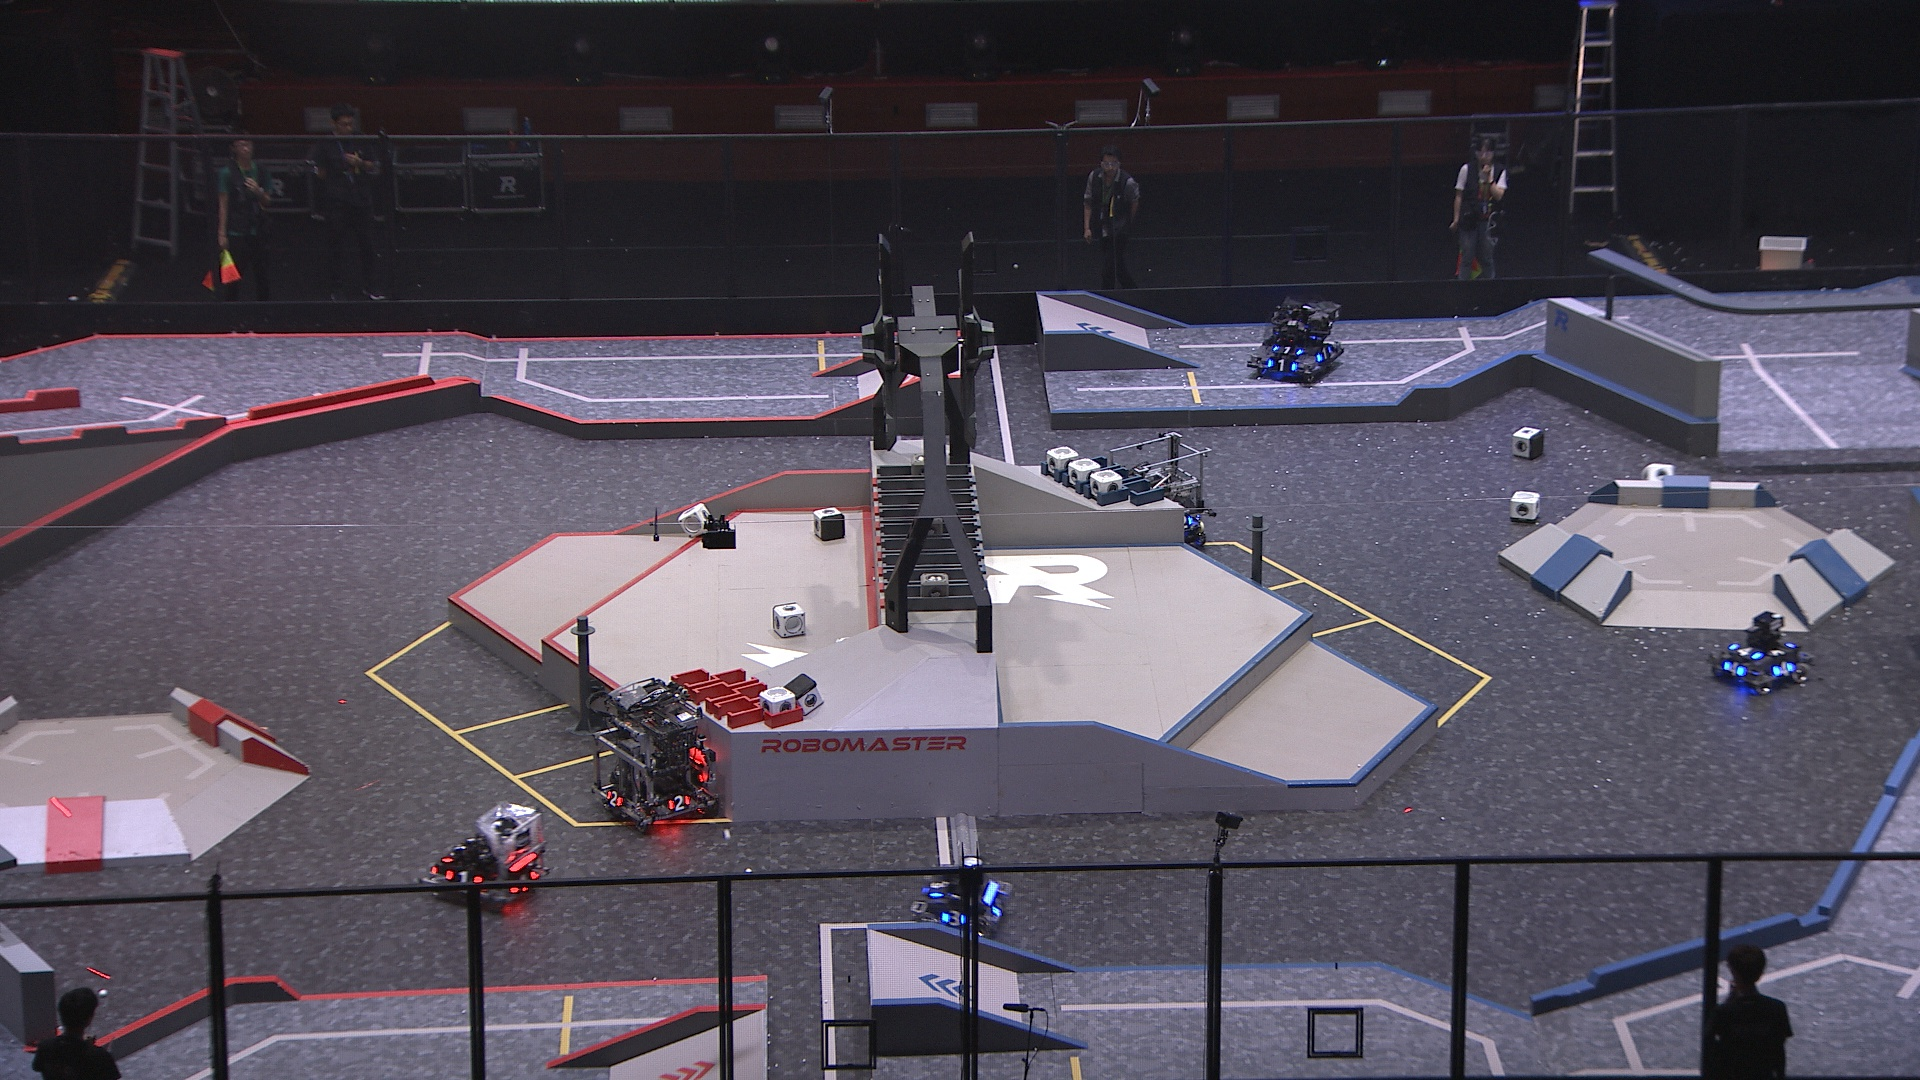armor: (1727, 642, 1764, 661), (443, 869, 484, 885), (1265, 357, 1300, 373), (666, 793, 692, 814), (936, 911, 967, 927), (1770, 661, 1797, 678), (927, 878, 949, 898), (1273, 343, 1305, 356), (604, 787, 624, 808), (1721, 659, 1745, 676), (1316, 345, 1333, 363), (1182, 512, 1196, 531)
car: (589, 678, 719, 831), (425, 800, 549, 911), (1106, 433, 1218, 551), (1247, 291, 1346, 386), (1706, 609, 1812, 694), (909, 855, 1011, 940)
